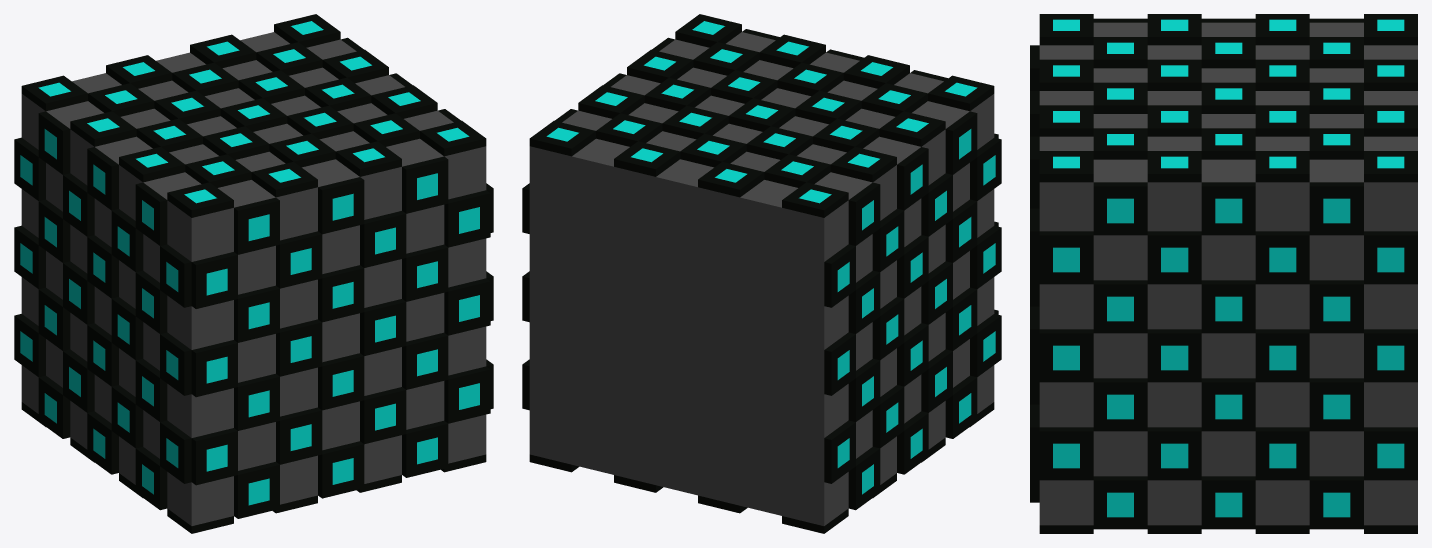
File: Stretching unbreakable big box 1.fbx
The picture shows the model from 3 angles, left to right: view 1: azimuth 30°, elevation 25°; view 2: azimuth 150°, elevation 25°; view 3: azimuth 270°, elevation 25°; orthographic projection. The views are drawn at different scales.
Parts seen in each view (by area): view 1: Cube.001; view 2: Cube.001; view 3: Cube.001.
Part boxes in pixels (<box>): Cube.001: <box>14,14,493,533</box>; Cube.001: <box>522,14,1001,533</box>; Cube.001: <box>1030,14,1417,533</box>.
Size of the model in its own units: 210 by 210 by 205.
